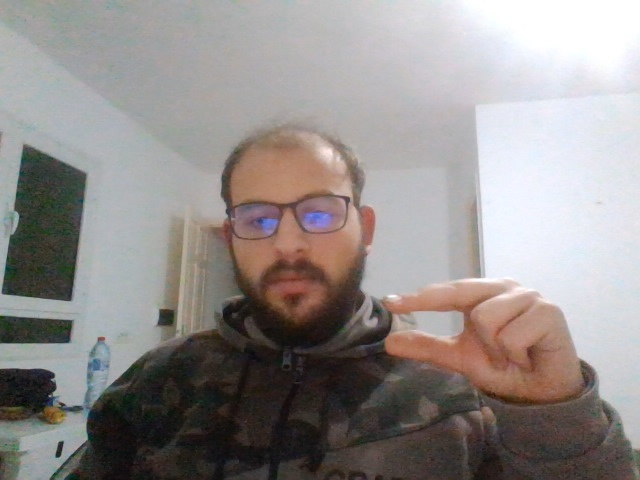No: (386, 281, 575, 393)
